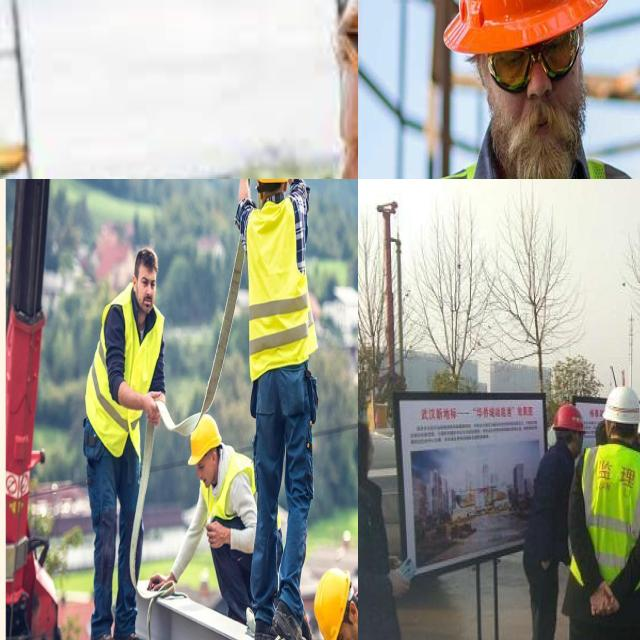No_Ear-Protection: (131, 273, 138, 293)
No_Glasses: (139, 272, 157, 290)
face_nomask: (483, 42, 600, 166), (137, 266, 159, 312), (194, 451, 214, 492)
glasses: (487, 22, 586, 96)
hand_noglove: (144, 567, 180, 602), (142, 385, 164, 435), (207, 520, 231, 556)
head_helmet: (441, 0, 611, 54), (313, 564, 351, 640), (592, 374, 640, 425), (188, 416, 224, 462), (552, 392, 584, 436), (627, 385, 640, 436)
person: (358, 0, 640, 179), (237, 179, 317, 640), (85, 249, 166, 640), (566, 369, 640, 640), (189, 413, 259, 627), (278, 0, 358, 179), (521, 407, 579, 640), (358, 408, 399, 640)
shoes: (273, 595, 311, 640), (250, 609, 280, 640), (109, 618, 147, 640), (85, 618, 120, 640)
vest: (84, 288, 165, 467), (244, 200, 318, 374), (570, 438, 640, 597)
